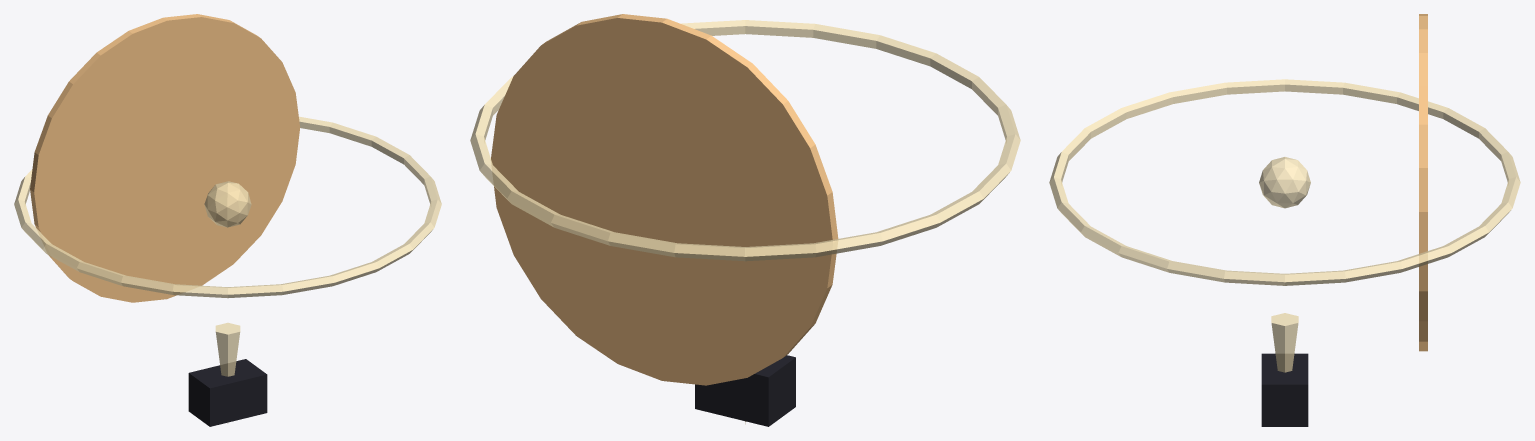
The model's file is 05_combat_start_camera_rig.glb.
The picture shows the model from 3 angles, left to right: view 1: azimuth 30°, elevation 25°; view 2: azimuth 150°, elevation 25°; view 3: azimuth 270°, elevation 25°; orthographic projection. The views are drawn at different scales.
Parts seen in each view (by area): view 1: combat_start_trigger_disc, camera_orbit_track, camera_proxy, target_focus_point, look_vector; view 2: combat_start_trigger_disc, camera_orbit_track, camera_proxy; view 3: camera_orbit_track, camera_proxy, combat_start_trigger_disc, target_focus_point, look_vector.
Boxes of the visible parts, <box> form: combat_start_trigger_disc: <box>30,14,300,302</box>; camera_orbit_track: <box>14,116,441,298</box>; camera_proxy: <box>188,359,267,426</box>; target_focus_point: <box>204,181,251,227</box>; look_vector: <box>215,322,240,423</box>; combat_start_trigger_disc: <box>491,14,838,385</box>; camera_orbit_track: <box>470,20,1020,261</box>; camera_proxy: <box>695,355,795,426</box>; camera_orbit_track: <box>1049,79,1520,285</box>; camera_proxy: <box>1261,353,1308,426</box>; combat_start_trigger_disc: <box>1419,14,1427,351</box>; target_focus_point: <box>1259,157,1310,208</box>; look_vector: <box>1271,313,1298,372</box>.
Bounding box in the file's own units: 1.81 × 1.68 × 1.81.
